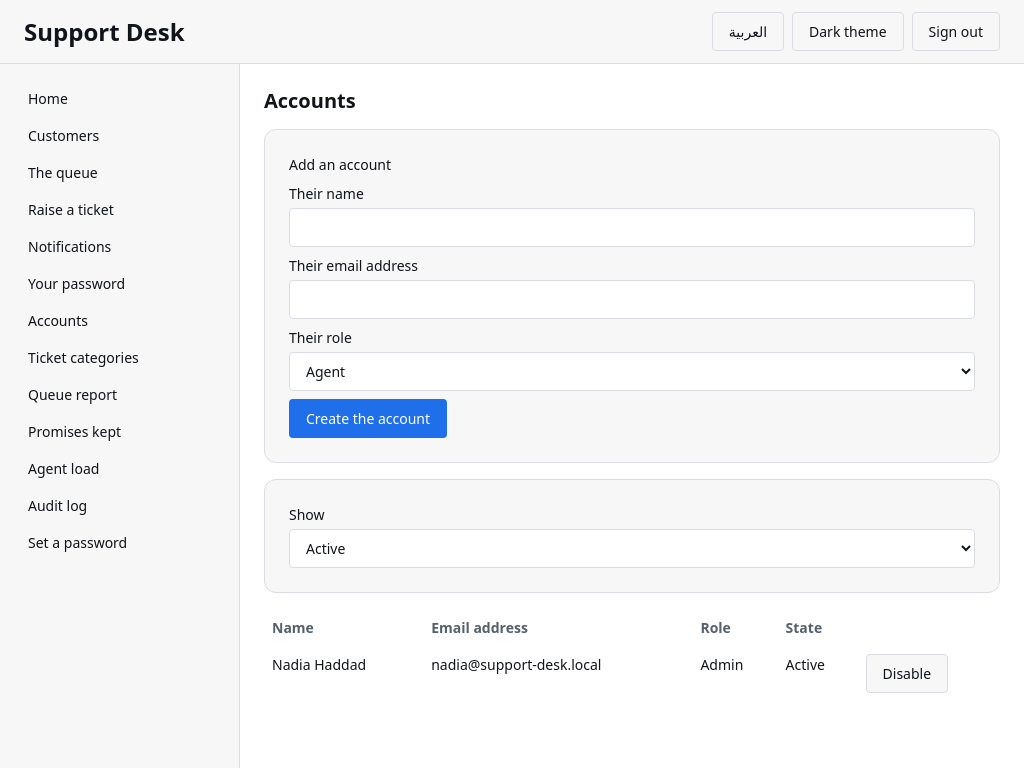
Scenario: the password a new account is given is shown once, and written nowhere it can be read again
Check: the text "Nadia Haddad" is shown, box [264,646,423,701]
Type "New Person" into the field labelled "Their name". click: (632, 228)
box: [289,208,975,247]
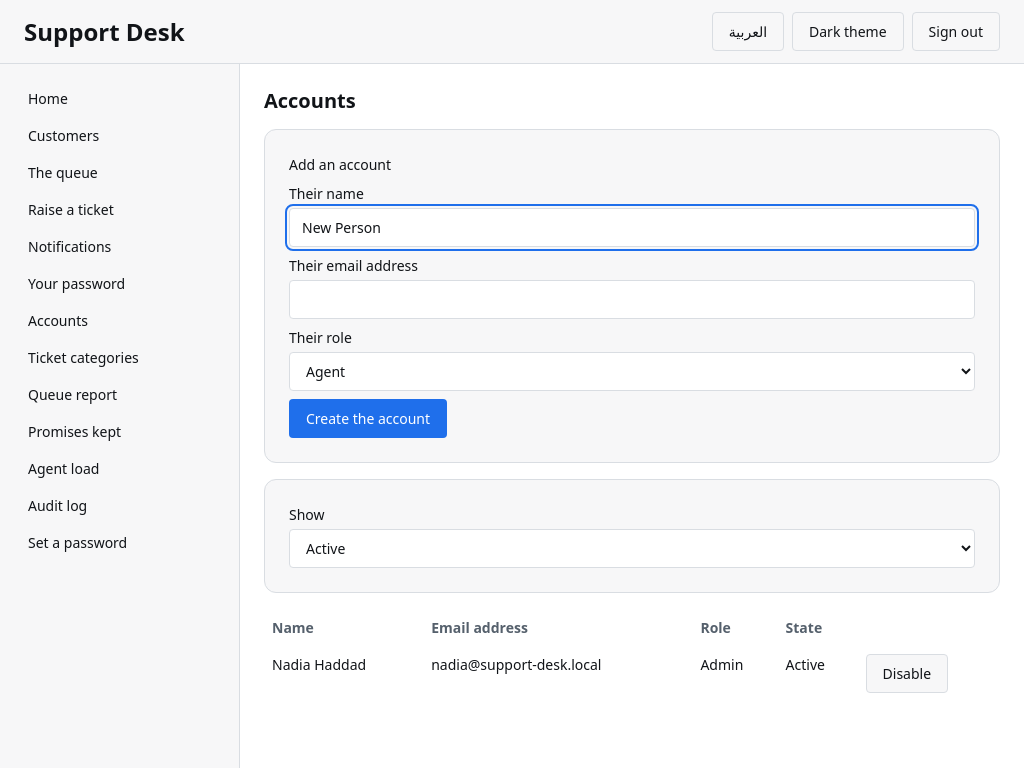
Type "new@support-desk.local" into the field labelled "Their email address". click: (632, 300)
box: [289,280,975,319]
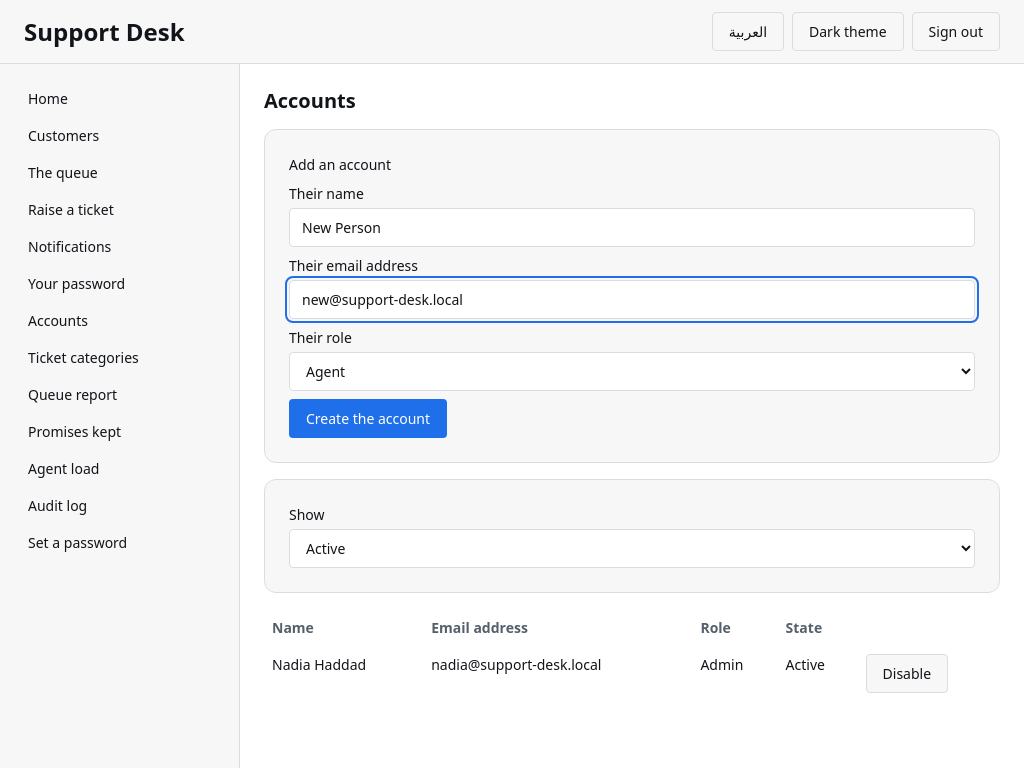
Click the button "Create the account". click: (368, 418)
box: [289,399,447,438]
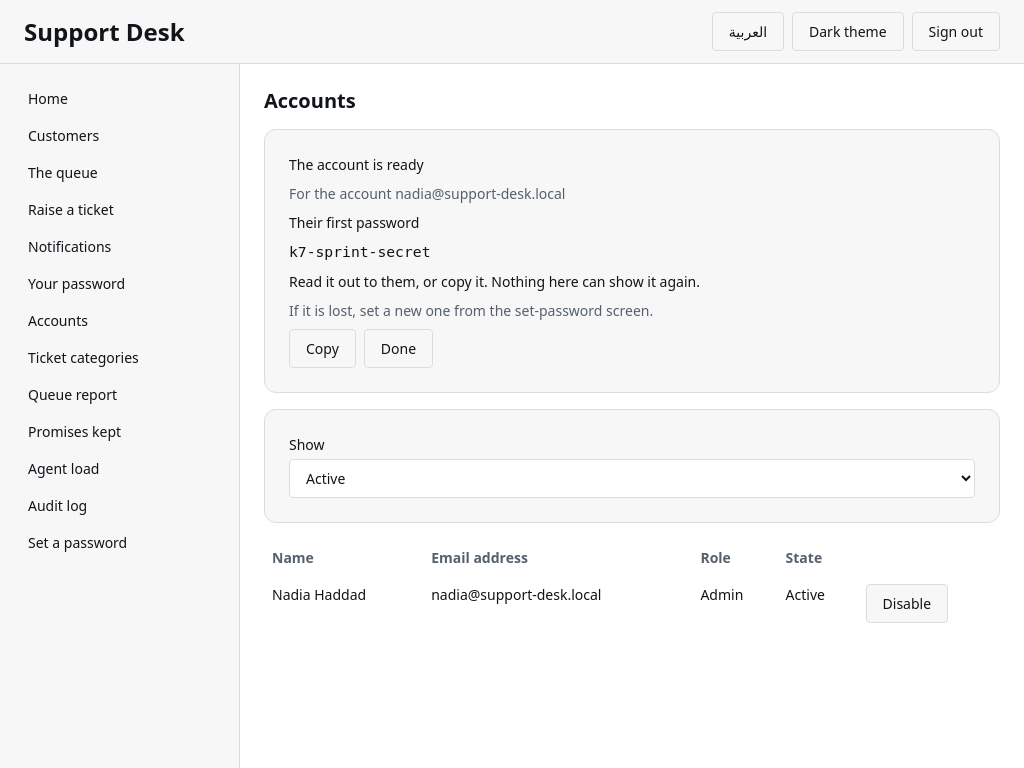
Check: the text "k7-sprint-secret" is shown, box [289,243,430,260]
Check: the text "Read it out to them, or copy it. Nothing here can show it again." is shown, box [289,272,700,291]
// Dismissing puts it out of reach, because nothing can show it again.
Click the button "Done". click: (398, 348)
box: [364,329,433,368]
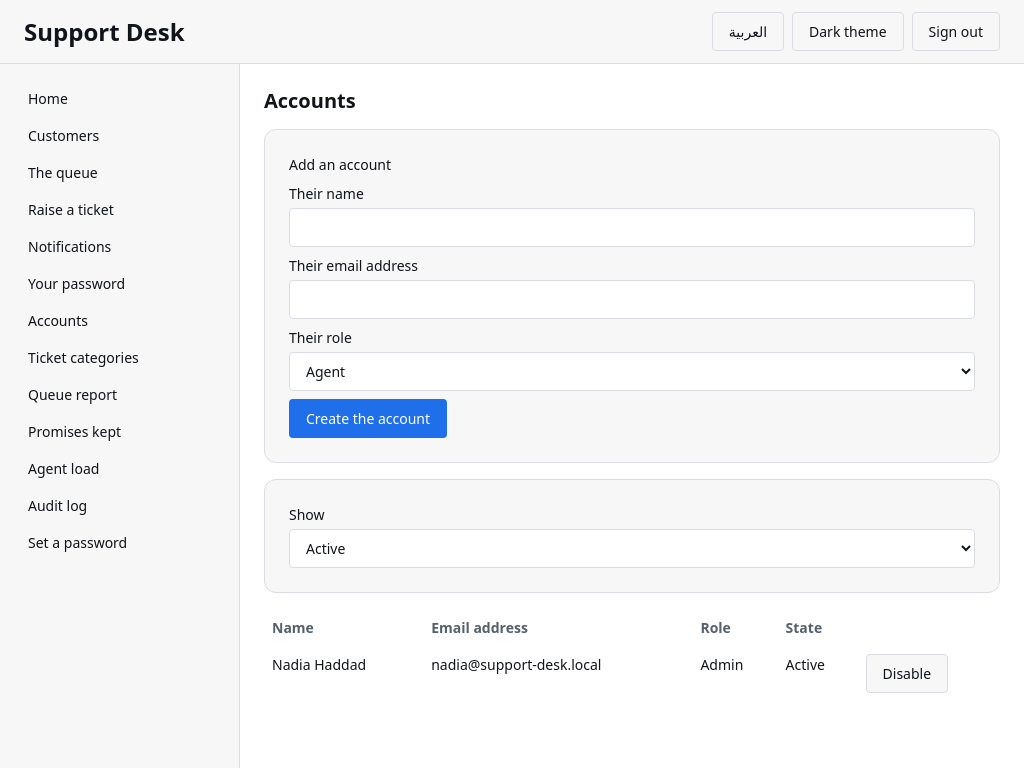
Check: the text "k7-sprint-secret" is gone
